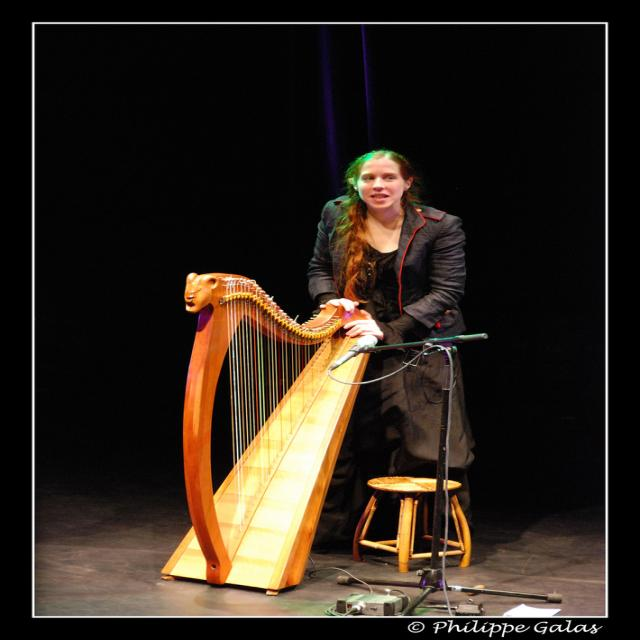harp: (164, 266, 382, 598)
